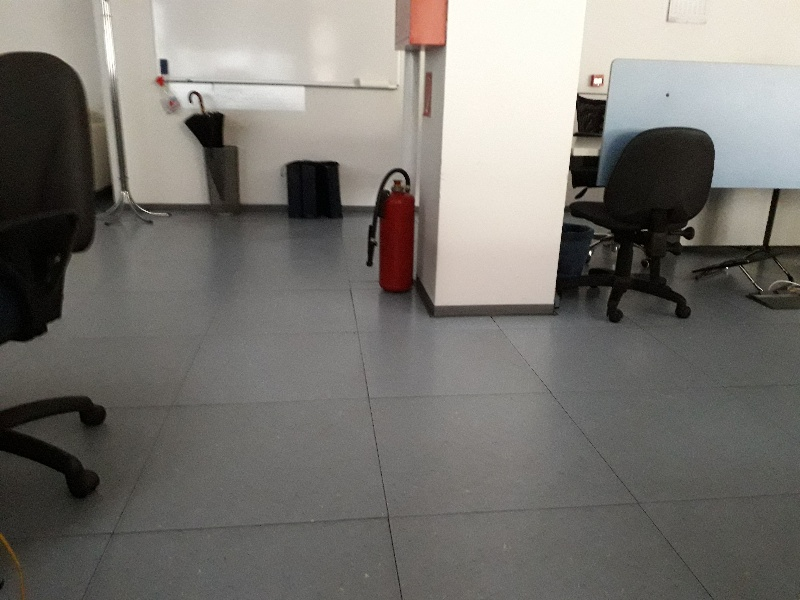vataparat: (366, 168, 415, 292)
